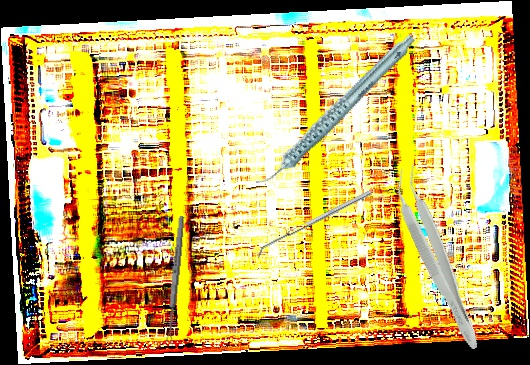Handpiece: (229, 31, 440, 189)
Spatula Surgical: (253, 190, 375, 258)
Surgical Spoon: (164, 215, 186, 345)
Tissue Forceps: (384, 162, 493, 354)
